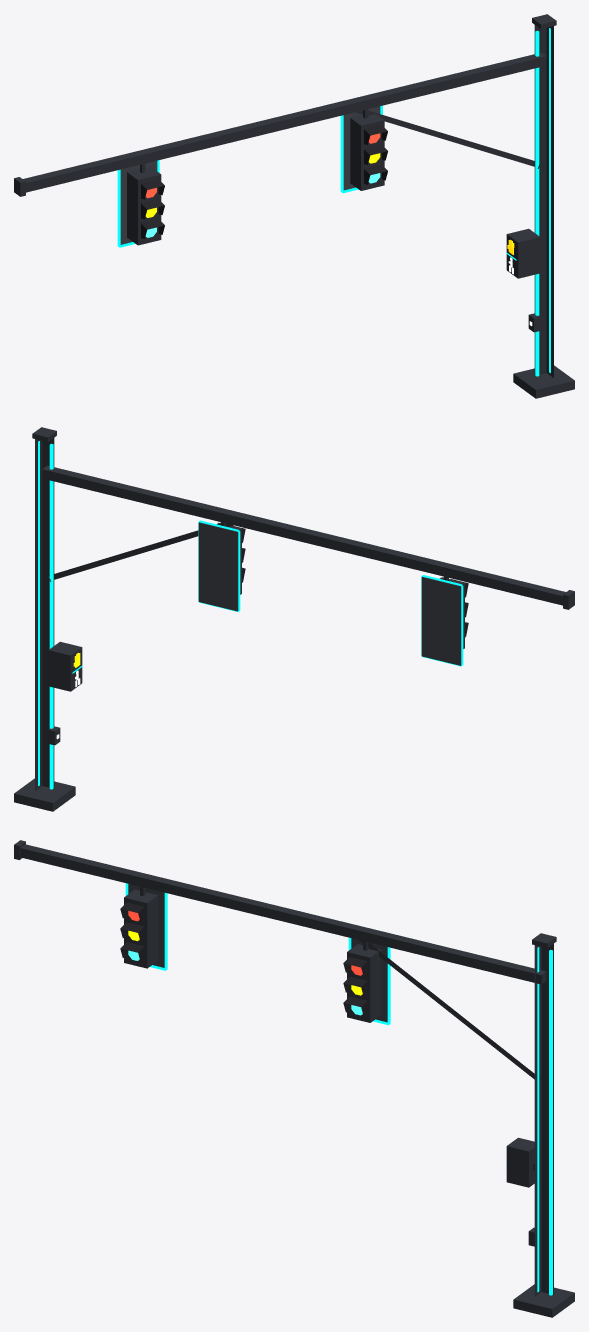
The model's file is stop_light.glb.
The picture shows the model from 3 angles, top to bottom: view 1: azimuth 30°, elevation 25°; view 2: azimuth 150°, elevation 25°; view 3: azimuth 330°, elevation 25°; orthographic projection.
Parts seen in each view (by area): view 1: stop_light_body; view 2: stop_light_body; view 3: stop_light_body.
Part boxes in pixels (<box>): stop_light_body: <box>14,14,574,398</box>; stop_light_body: <box>14,427,574,811</box>; stop_light_body: <box>14,840,574,1317</box>.
Size of the model in its own units: 9.8 by 6.28 by 0.77.
